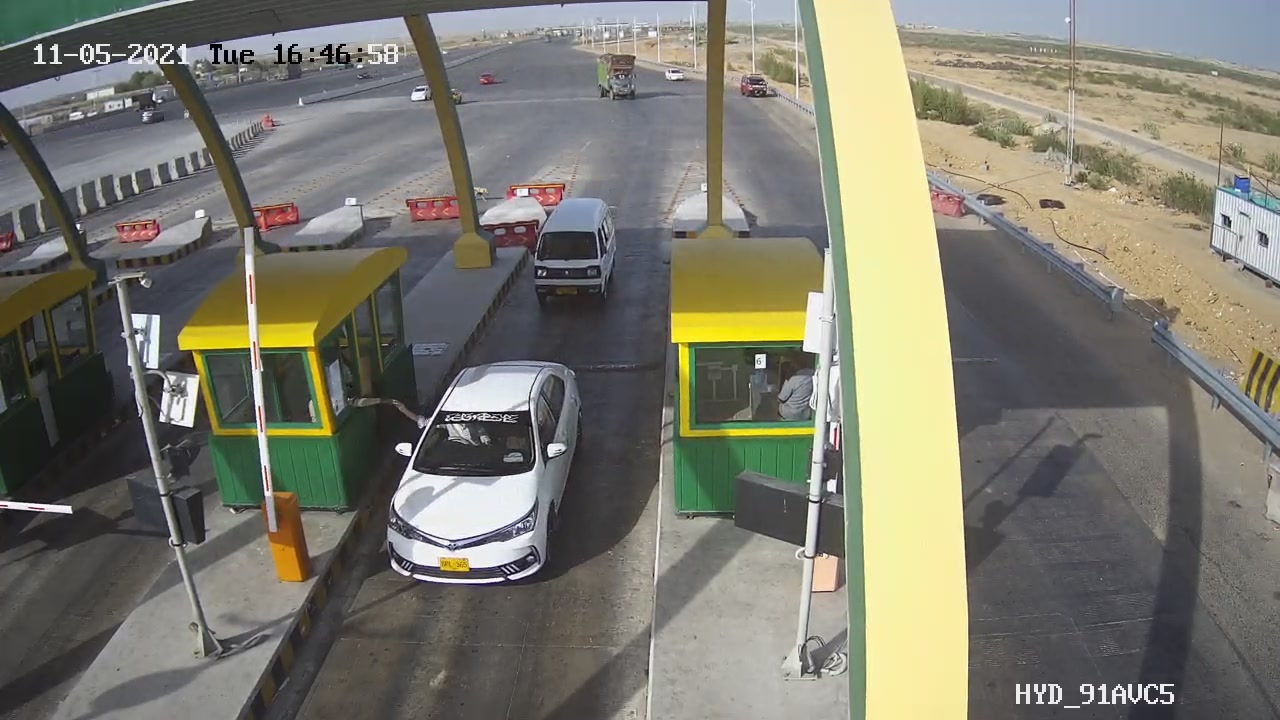F1: (367, 342, 610, 608), (511, 181, 636, 320)
